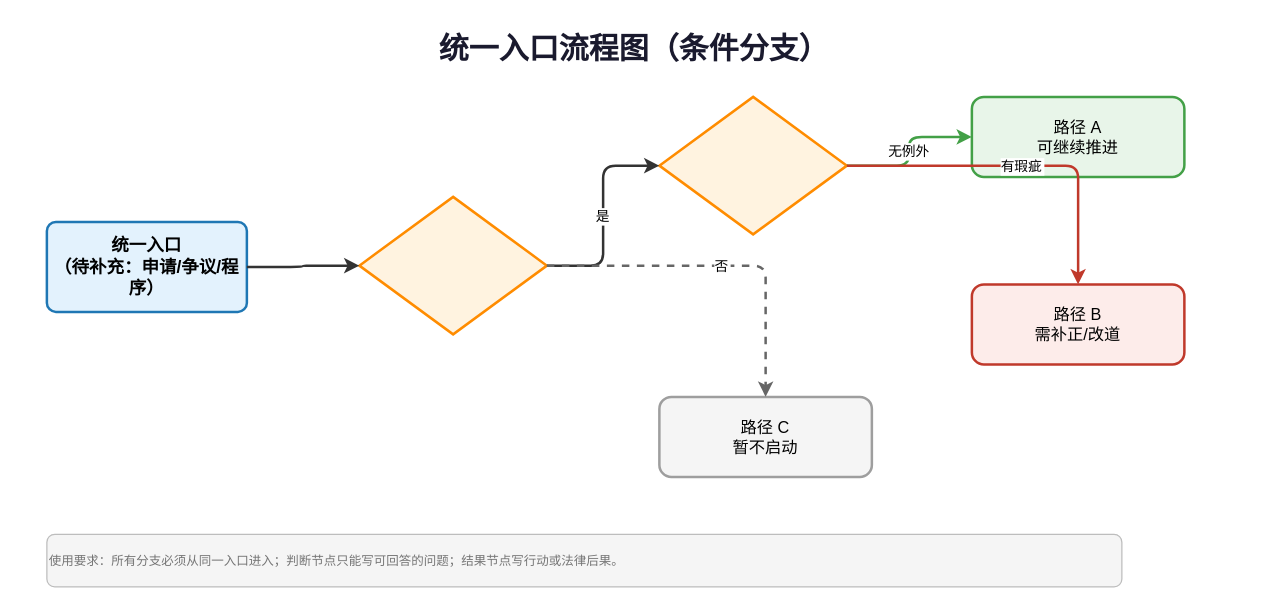
Image size: 1268x609. Some labels were removed from this diagram. Here are the shapes that lost their labels. From the top down, the box of each, then its label:
(658, 95, 848, 235): 是否存在例外/瑕疵？
(358, 195, 548, 335): 条件一是否满足？
